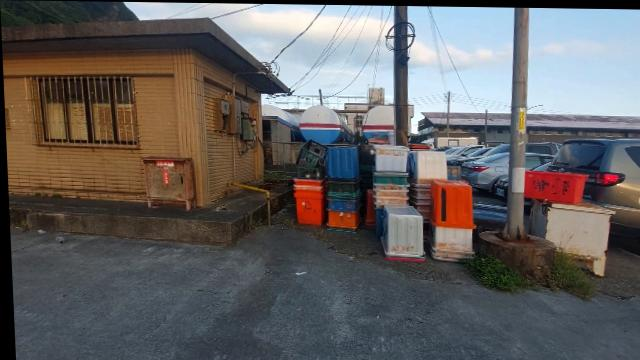pollute: (293, 138, 472, 262), (527, 199, 613, 275), (522, 169, 585, 201)
